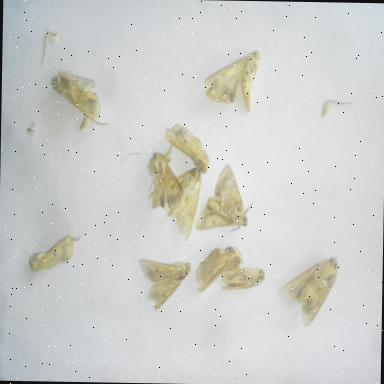abw: (280, 252, 346, 332), (194, 156, 256, 238), (201, 44, 262, 117), (47, 66, 113, 130), (156, 160, 204, 243), (134, 254, 196, 316), (188, 245, 244, 302), (162, 118, 215, 178), (145, 146, 188, 215), (26, 230, 86, 279), (214, 264, 271, 299)
